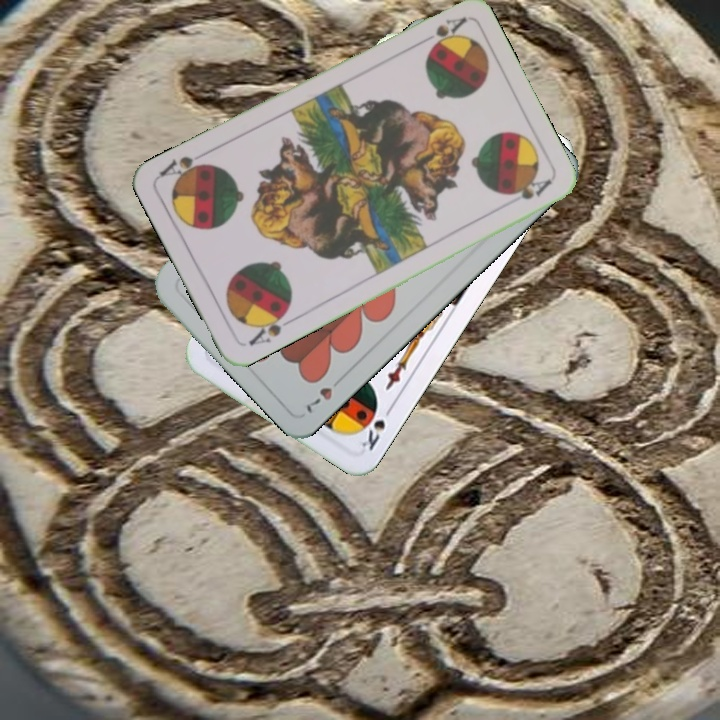H7: (302, 371, 346, 416)
SA: (244, 305, 297, 349), (413, 13, 468, 51)
SK: (357, 401, 396, 454)
